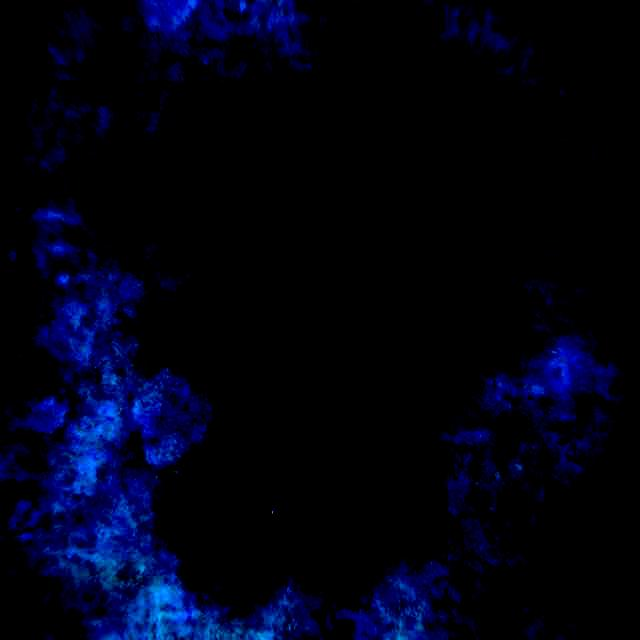BKL: (249, 51, 485, 450)
